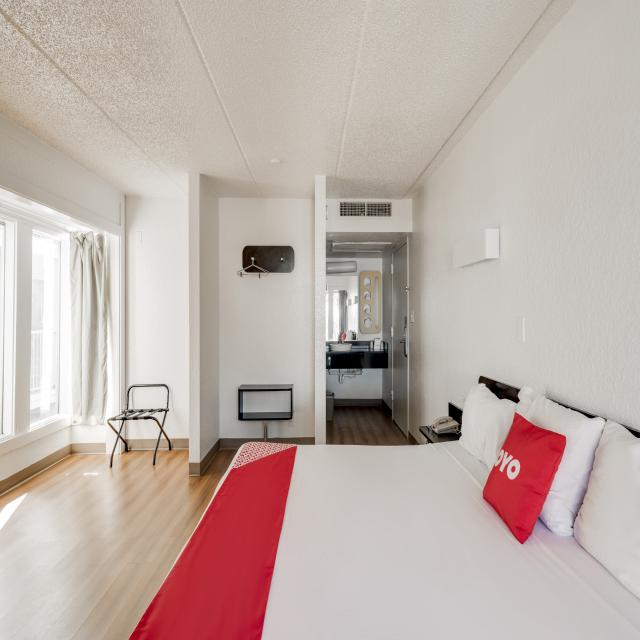Chair: (105, 385, 177, 470)
